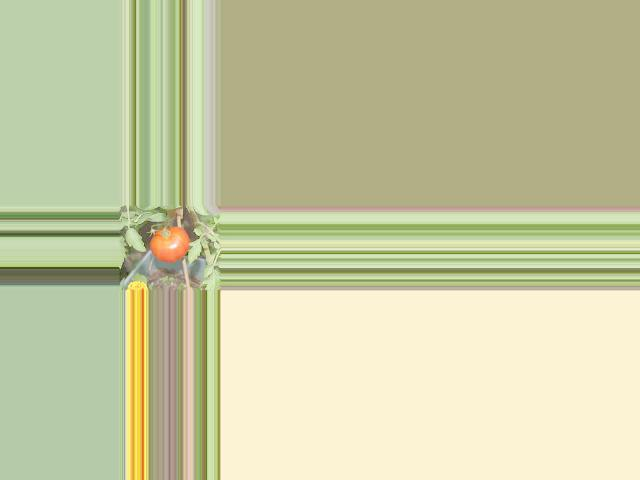tomato: (150, 226, 191, 262)
